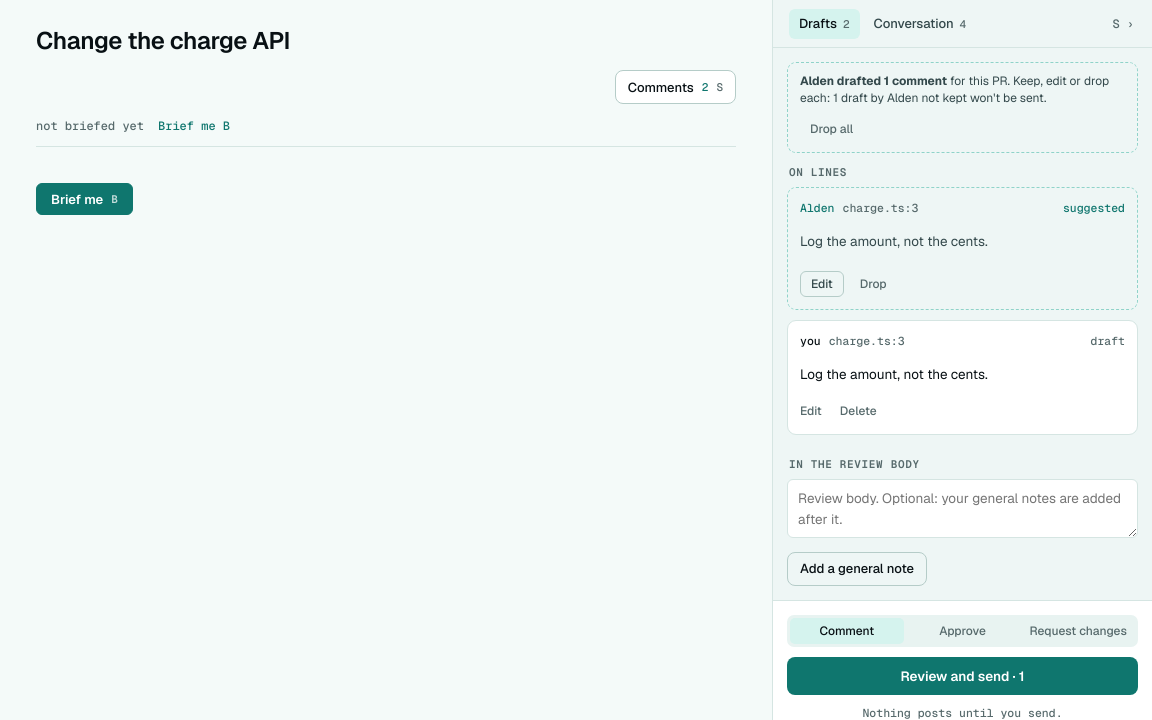
Scenario: the conversation in the Comments drawer › starts a reply empty and saves only what you wrote, with Alden's drafts on the thread's line
The width and height of the screenshot is (1152, 720).
Click the tab "Conversation 4" at point(920, 24), box [864, 8, 976, 38]
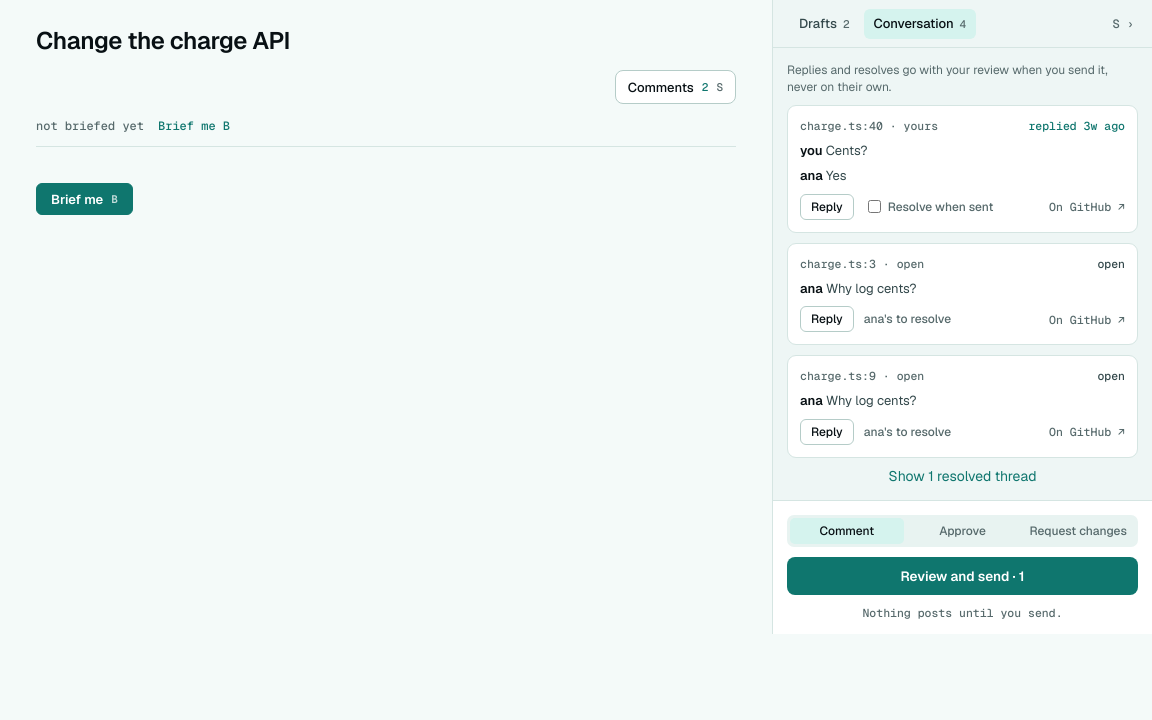
Expected: the list item that starts with "charge.ts:40" is shown, [787, 105, 1138, 233]
Click the button with aria-label "Reply in the thread on src/charge.ts:3" at point(827, 319), box [800, 306, 854, 332]
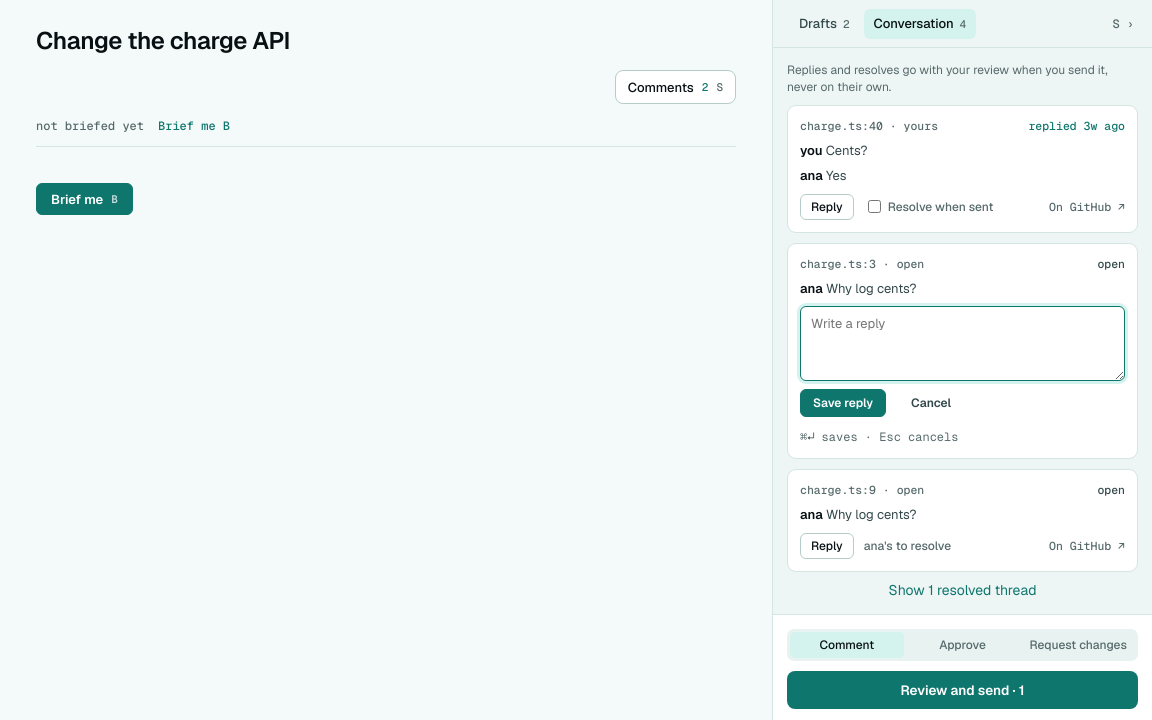
Expected: the text box named "Reply in the thread on src/charge.ts:3" is empty
Type "nevermind all good on this one." into the text box named "Reply in the thread on src/charge.ts:3" at point(962, 344), box [800, 306, 1125, 381]
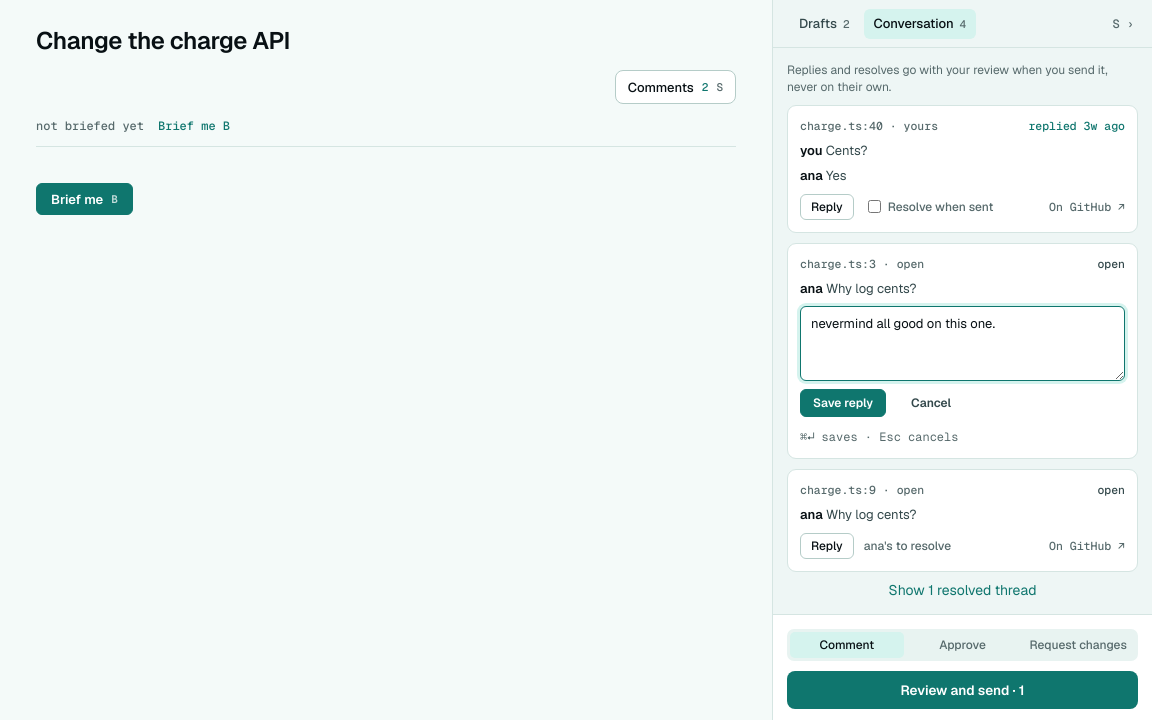
Click the button "Save reply" at point(843, 403), box [800, 389, 886, 417]
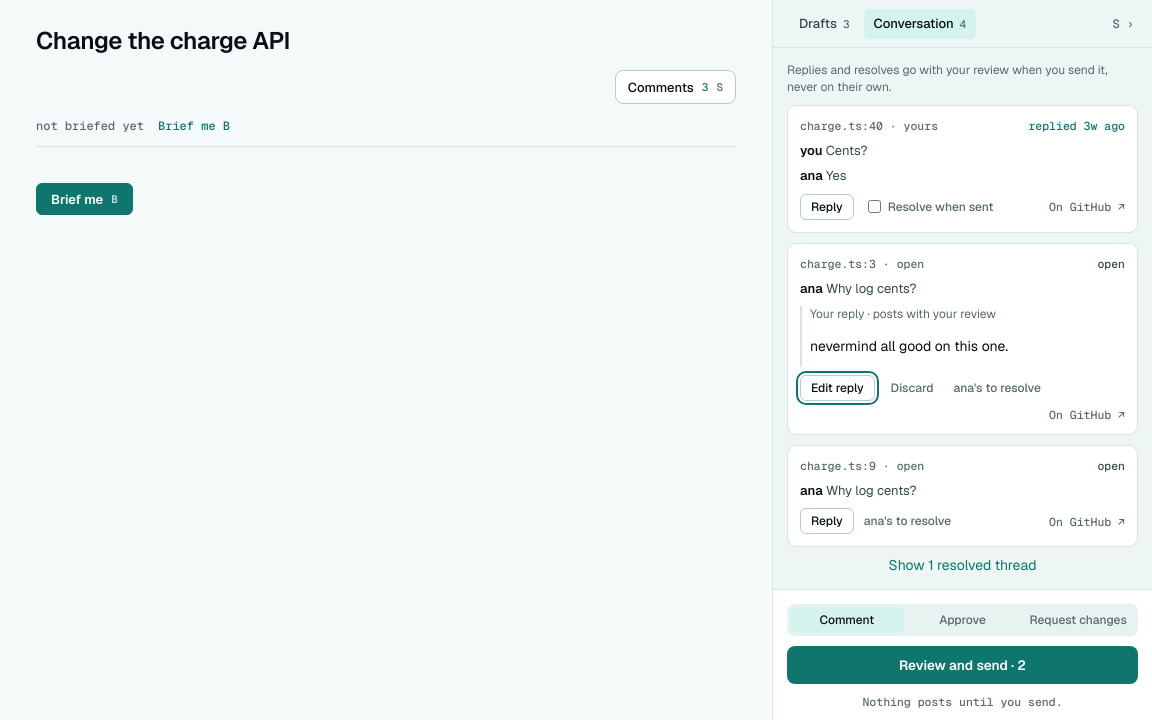
Expected: the element named "Conversation" shows "Your reply · posts with your review", [810, 306, 996, 322]
Click the button with aria-label "Edit your reply in the thread on src/charge.ts:3" at point(837, 388), box [800, 375, 875, 401]
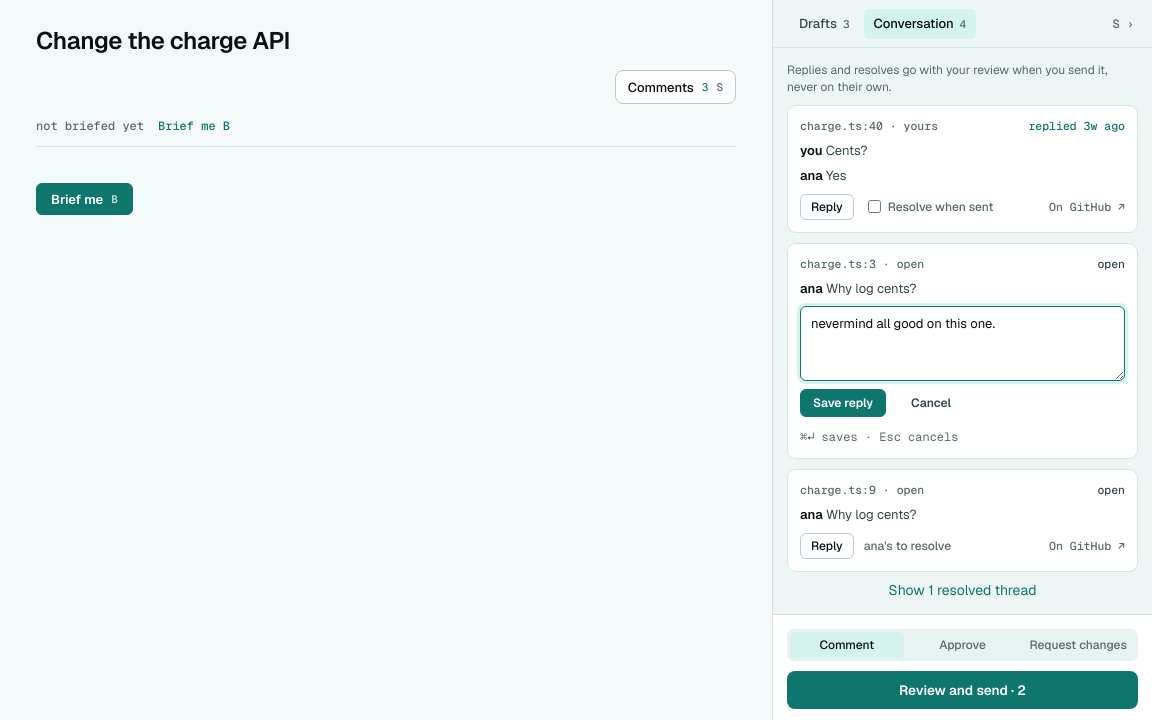
Expected: the text box named "Reply in the thread on src/charge.ts:3" holds "nevermind all good on this one.", [800, 306, 1125, 381]
